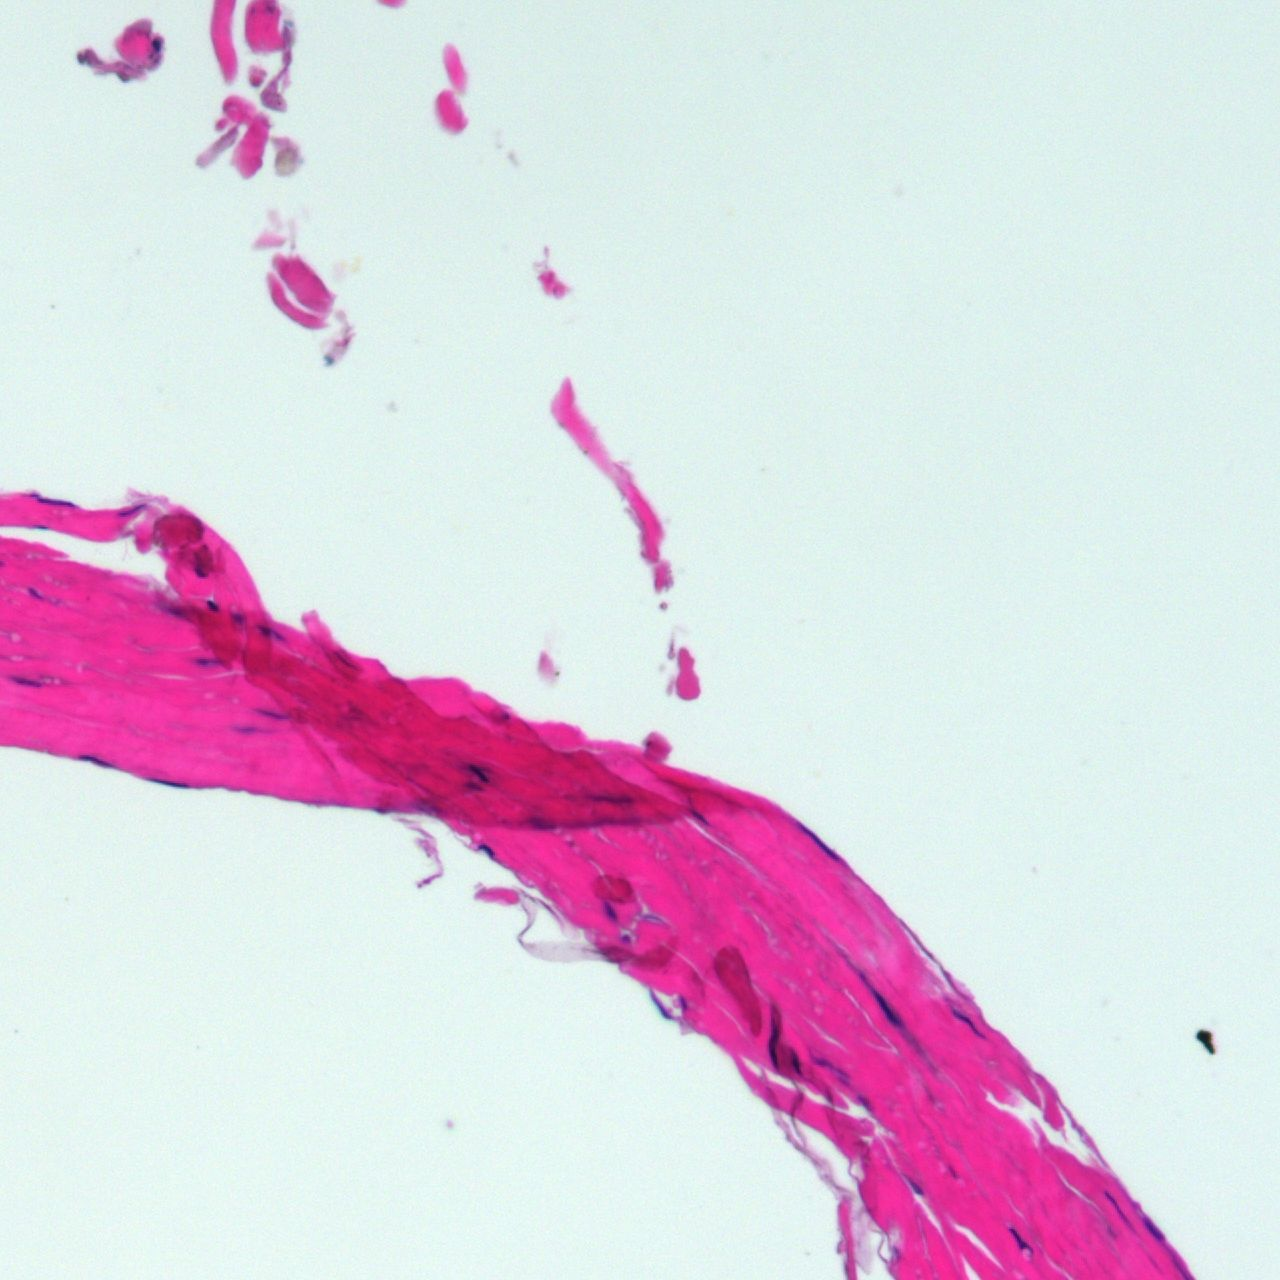dust: (1196, 1029, 1216, 1056)
nucleus-HE: (852, 968, 904, 1030), (794, 818, 840, 862), (1099, 1189, 1136, 1235), (948, 1003, 987, 1041), (1003, 1223, 1039, 1261), (1136, 1208, 1169, 1248), (79, 750, 114, 772), (465, 760, 493, 787), (767, 1017, 779, 1071), (7, 672, 45, 688), (116, 501, 147, 520), (258, 621, 282, 644), (256, 707, 291, 721), (229, 723, 274, 734), (905, 1173, 925, 1197), (157, 602, 185, 617), (476, 840, 496, 859), (26, 584, 45, 602), (36, 498, 73, 508), (192, 656, 227, 666), (591, 792, 629, 801), (604, 901, 615, 922), (792, 1048, 801, 1076), (529, 816, 550, 826), (230, 611, 243, 625), (195, 566, 207, 578), (207, 598, 217, 612)
